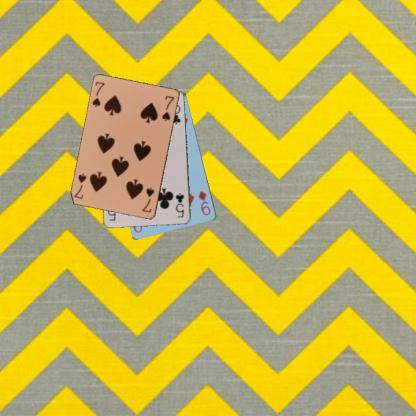5c: (173, 191, 185, 219)
7s: (139, 185, 156, 214), (90, 79, 106, 109)
9d: (196, 188, 211, 217)
